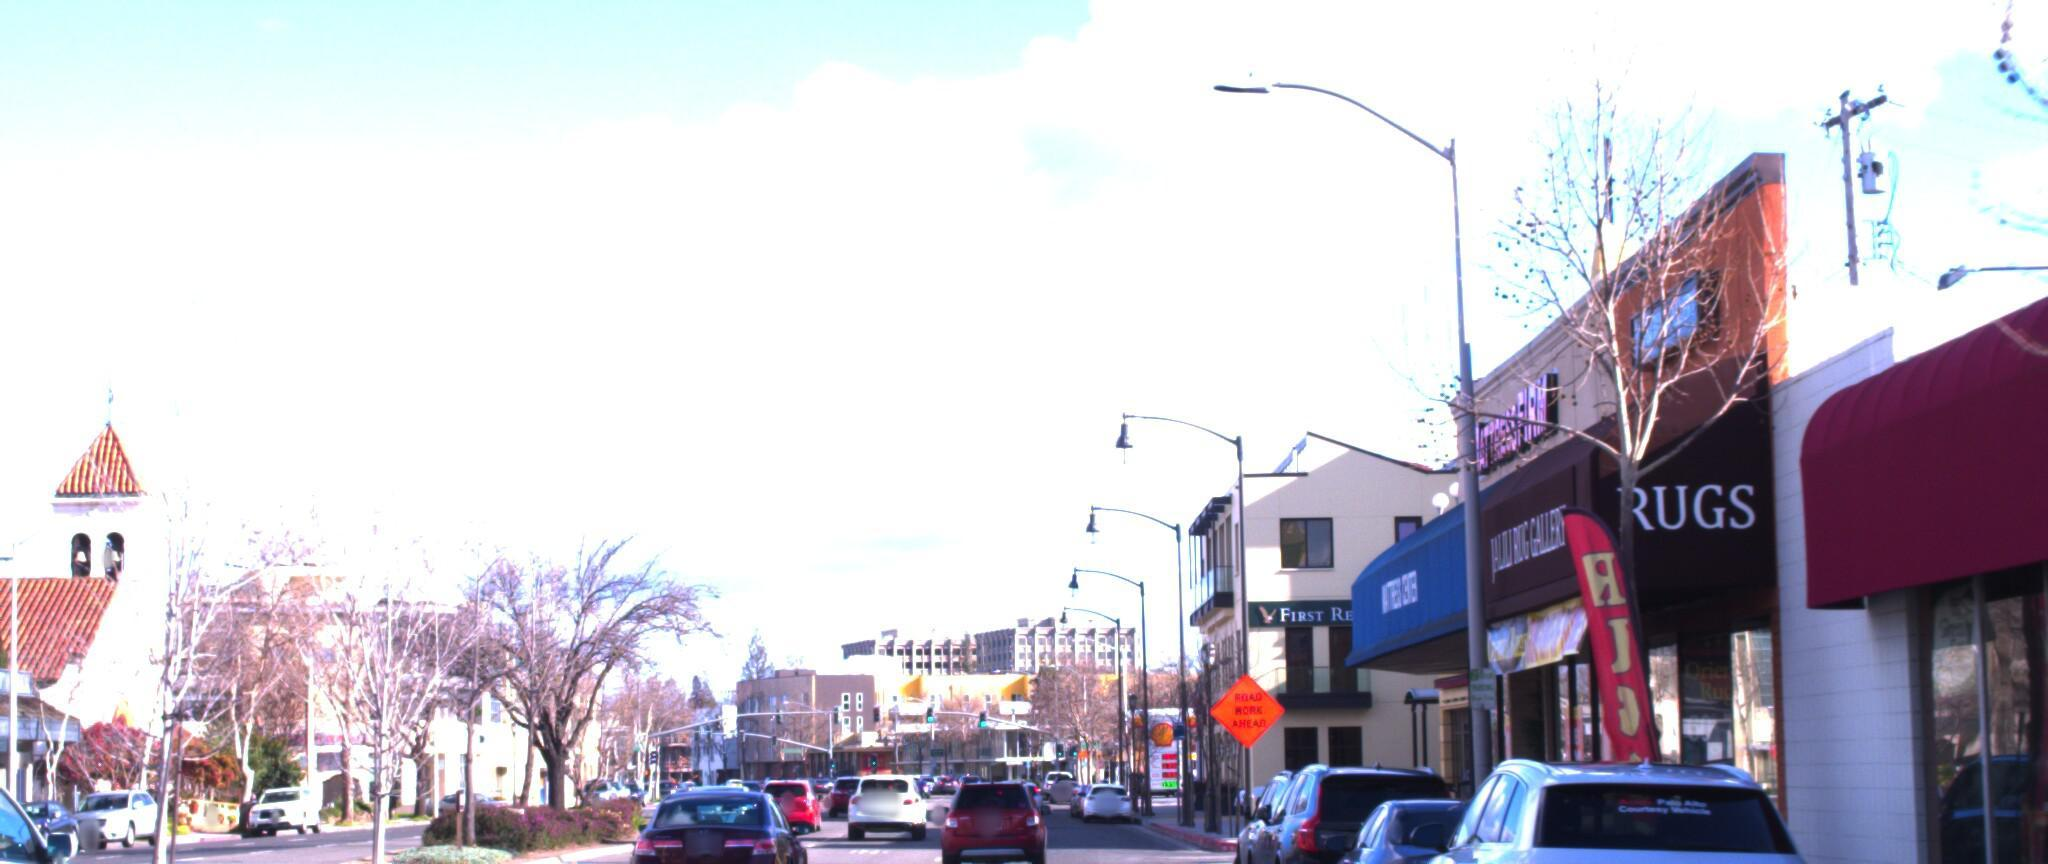car: (1384, 741, 1856, 864), (1238, 737, 1473, 864), (1306, 771, 1601, 864), (0, 683, 142, 864), (633, 750, 818, 864), (934, 758, 1044, 860), (852, 750, 929, 816)
